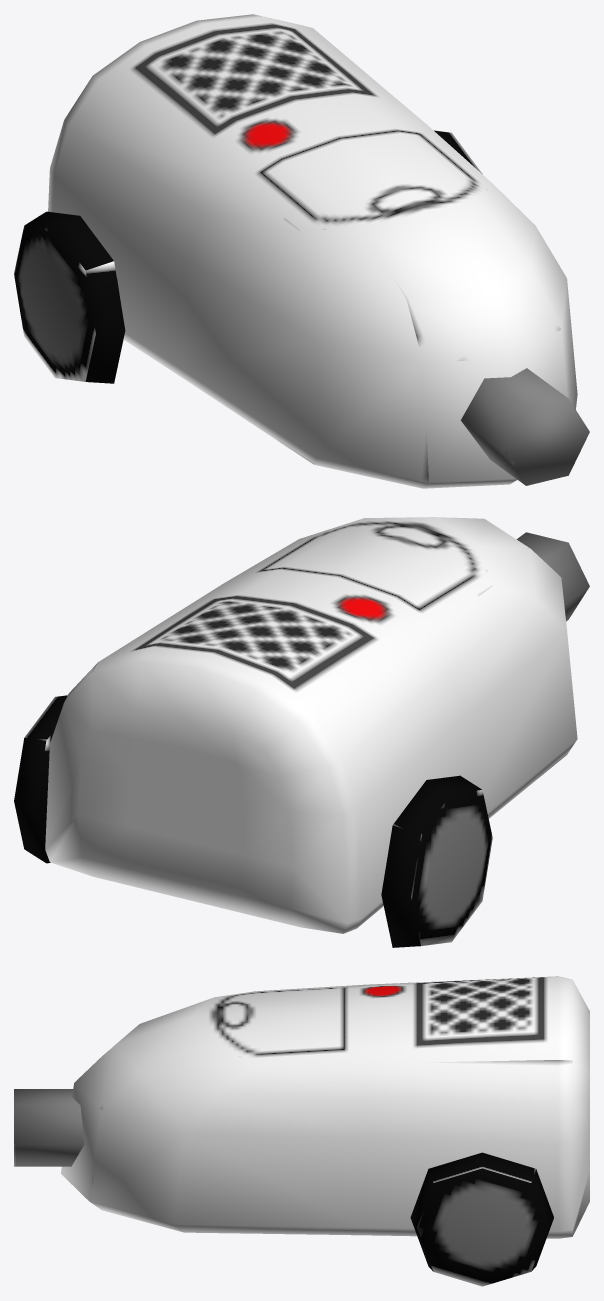
File: VacuumCleaner001.FBX
3 renders of one model, top to bottom at view 1: azimuth 30°, elevation 25°; view 2: azimuth 150°, elevation 25°; view 3: azimuth 270°, elevation 25°, orthographic. The views are drawn at different scales.
Parts seen in each view (by area): view 1: VacuumCleaner001; view 2: VacuumCleaner001; view 3: VacuumCleaner001.
Part boxes in pixels (x1,y1,x2,y2): VacuumCleaner001: (14, 14, 589, 488); VacuumCleaner001: (14, 517, 589, 947); VacuumCleaner001: (14, 976, 589, 1286).
Size of the model in its own units: 5.23 by 3.41 by 8.02.
